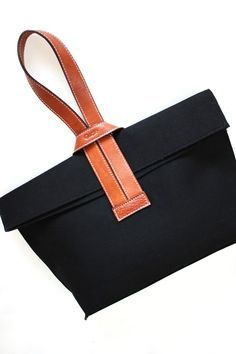cuero: (17, 30, 151, 222)
